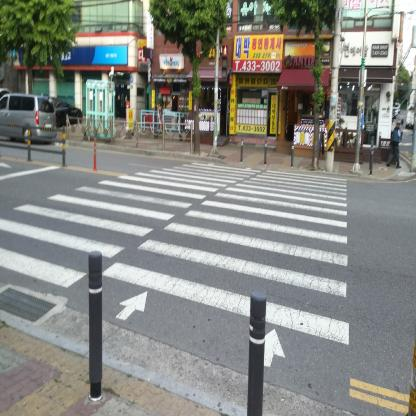Red: (222, 46, 228, 78)
